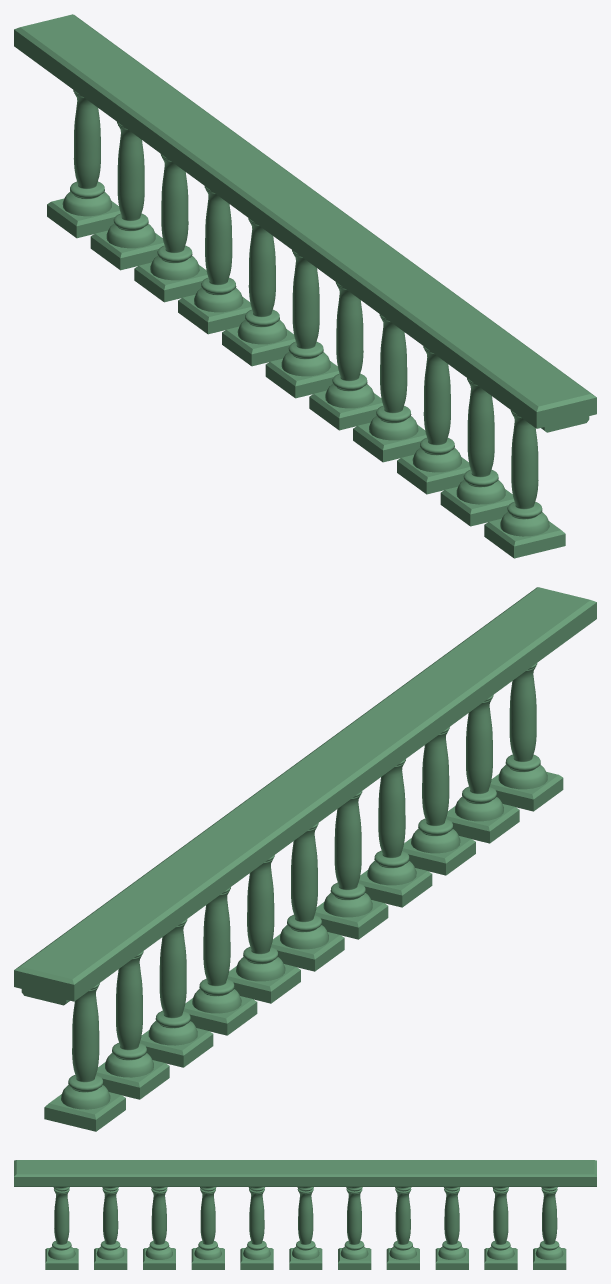
Rendered from ob_Marble railing.fbx.
3 views of the same model, one above another, from view 1: azimuth 30°, elevation 25°; view 2: azimuth 150°, elevation 25°; view 3: azimuth 270°, elevation 25° (orthographic). The views are drawn at different scales.
Parts seen in each view (by area): view 1: polySurface17; view 2: polySurface17; view 3: polySurface17.
Part boxes in pixels (x1,y1,x2,y2): polySurface17: [14, 14, 596, 558]; polySurface17: [14, 587, 596, 1131]; polySurface17: [14, 1160, 596, 1269].
Bounding box in the file's own units: 35.74 × 97.21 × 538.
